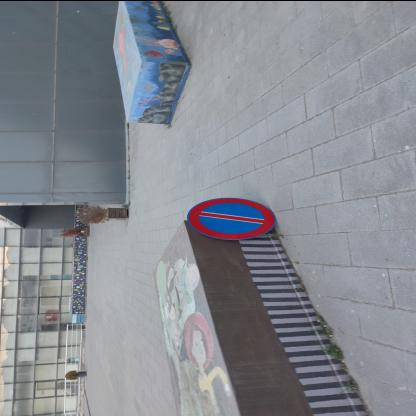No Waiting: (189, 197, 275, 239)
